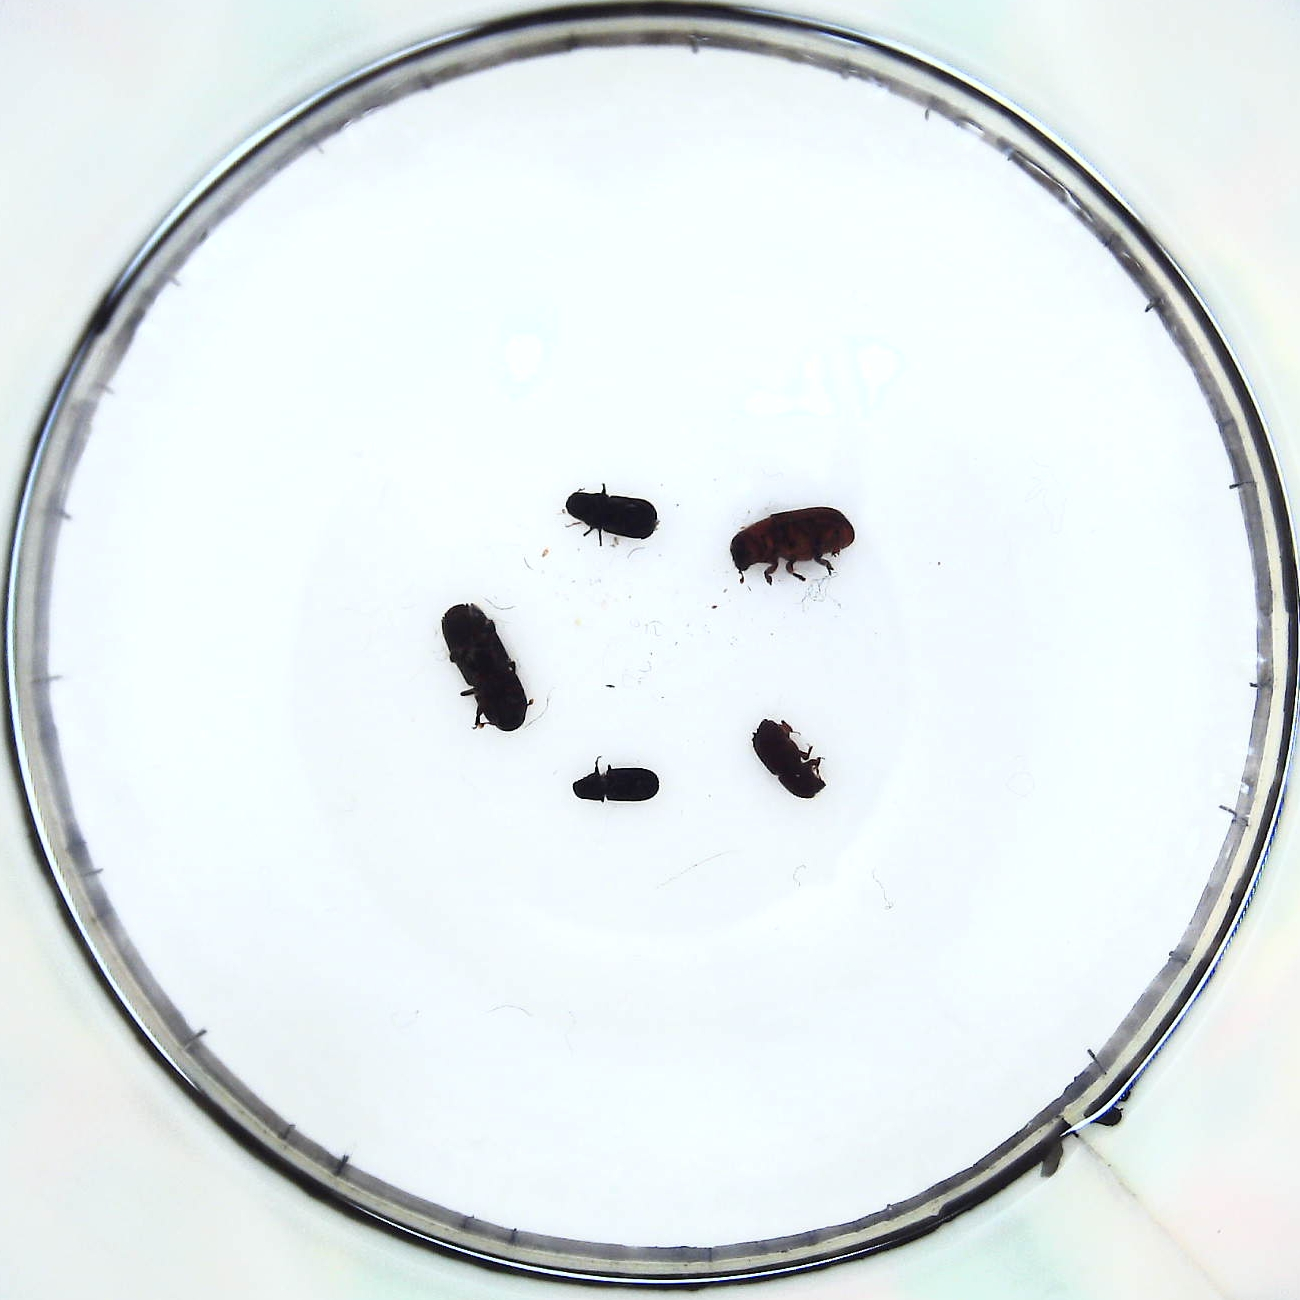Boerner: (439, 604, 531, 735)
Leconte: (730, 507, 857, 579)
Linnaeus: (751, 720, 824, 798)
armandi: (563, 486, 660, 544)
coleoptera: (570, 763, 663, 807)
